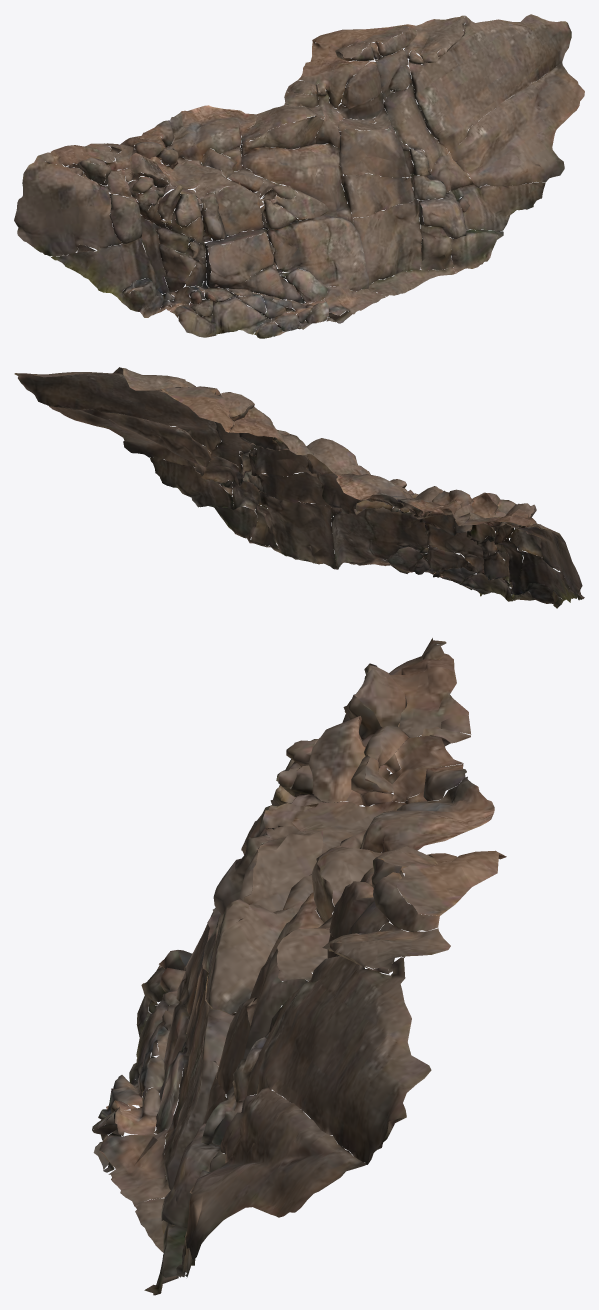
The model's file is namaqualand_cliff_02.glb.
3 renders of one model, top to bottom at view 1: azimuth 30°, elevation 25°; view 2: azimuth 150°, elevation 25°; view 3: azimuth 270°, elevation 25°, orthographic. The views are drawn at different scales.
Visible parts, largest first — view 1: drone_rock_02_LOD0; view 2: drone_rock_02_LOD0; view 3: drone_rock_02_LOD0.
Boxes of the visible parts, box(x1,y1,x2,y2) form: drone_rock_02_LOD0: box(14, 14, 584, 338); drone_rock_02_LOD0: box(14, 367, 584, 608); drone_rock_02_LOD0: box(92, 638, 506, 1295).
Bounding box in the file's own units: 20.21 × 7.2 × 6.61.
Materials: 1 (1 with a texture image).
